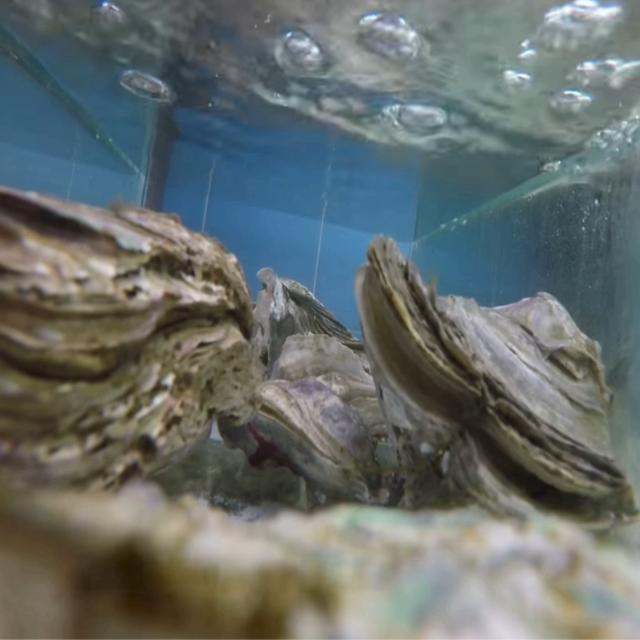Oyster-Closed: (0, 186, 254, 520), (249, 335, 406, 509)
Oyster-Indeterminate: (0, 482, 640, 640), (252, 266, 368, 383)
Oyster-Open: (354, 235, 640, 542)
